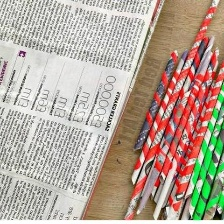news_paper: (0, 0, 166, 219)
